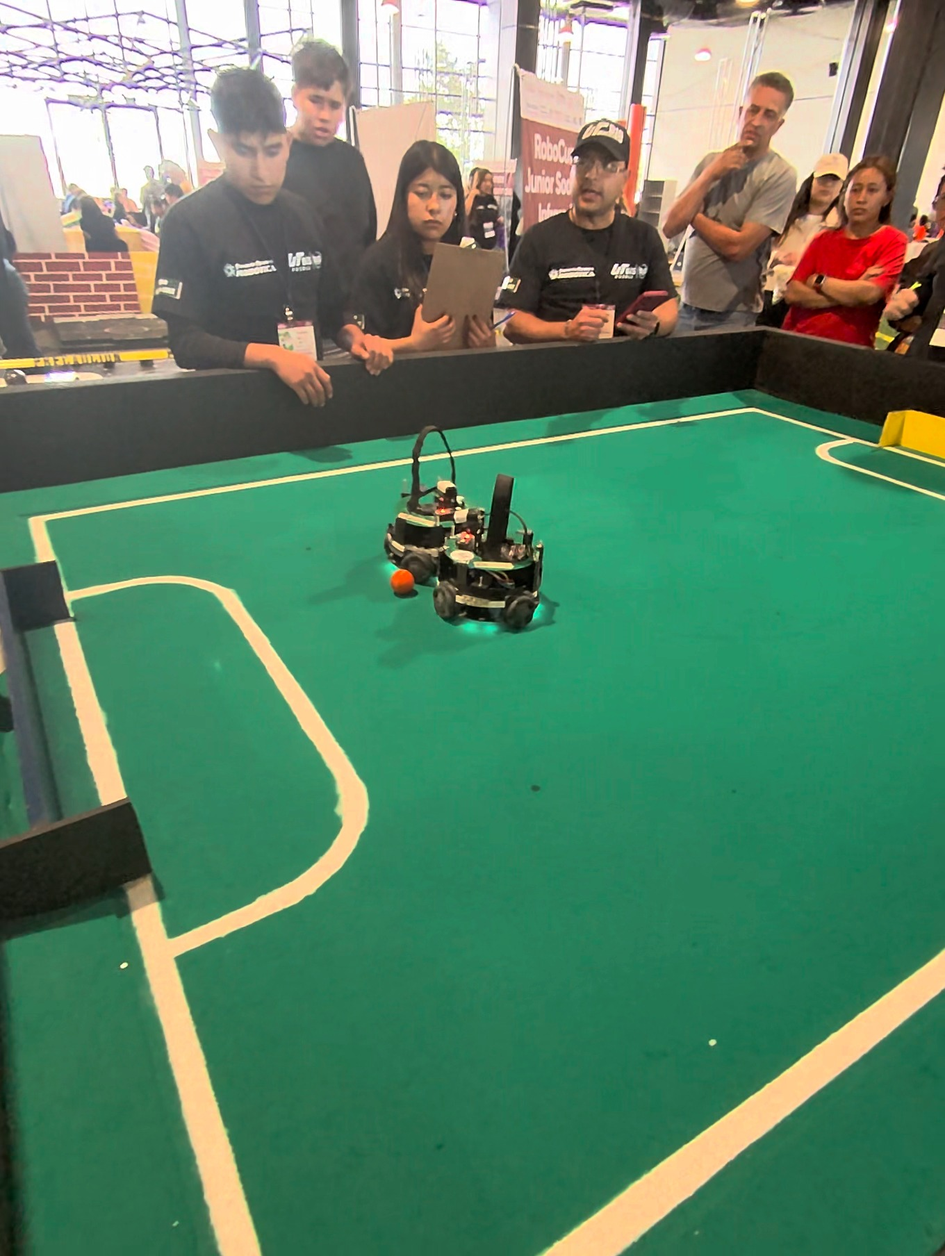Robot: (442, 469, 552, 643), (380, 428, 467, 554)
pelota: (390, 569, 417, 595)
